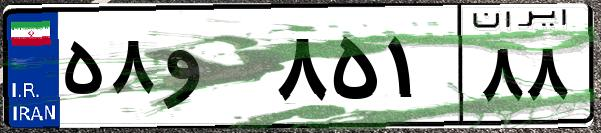1: (385, 28, 445, 110)
5: (330, 28, 385, 110), (57, 26, 110, 100)
8: (270, 28, 330, 110), (475, 38, 525, 113), (525, 38, 570, 115), (110, 28, 158, 98)
و: (158, 20, 270, 120)
